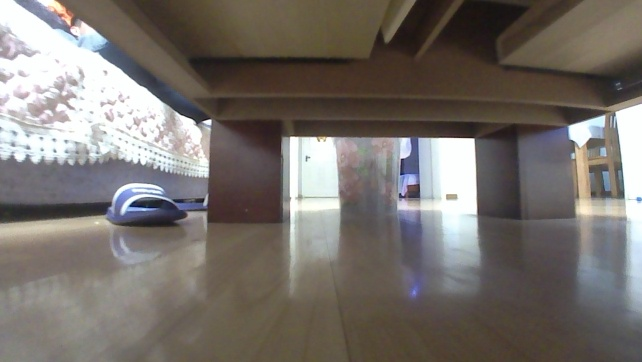slipper: (101, 180, 188, 228)
sofa1: (0, 0, 220, 212)
